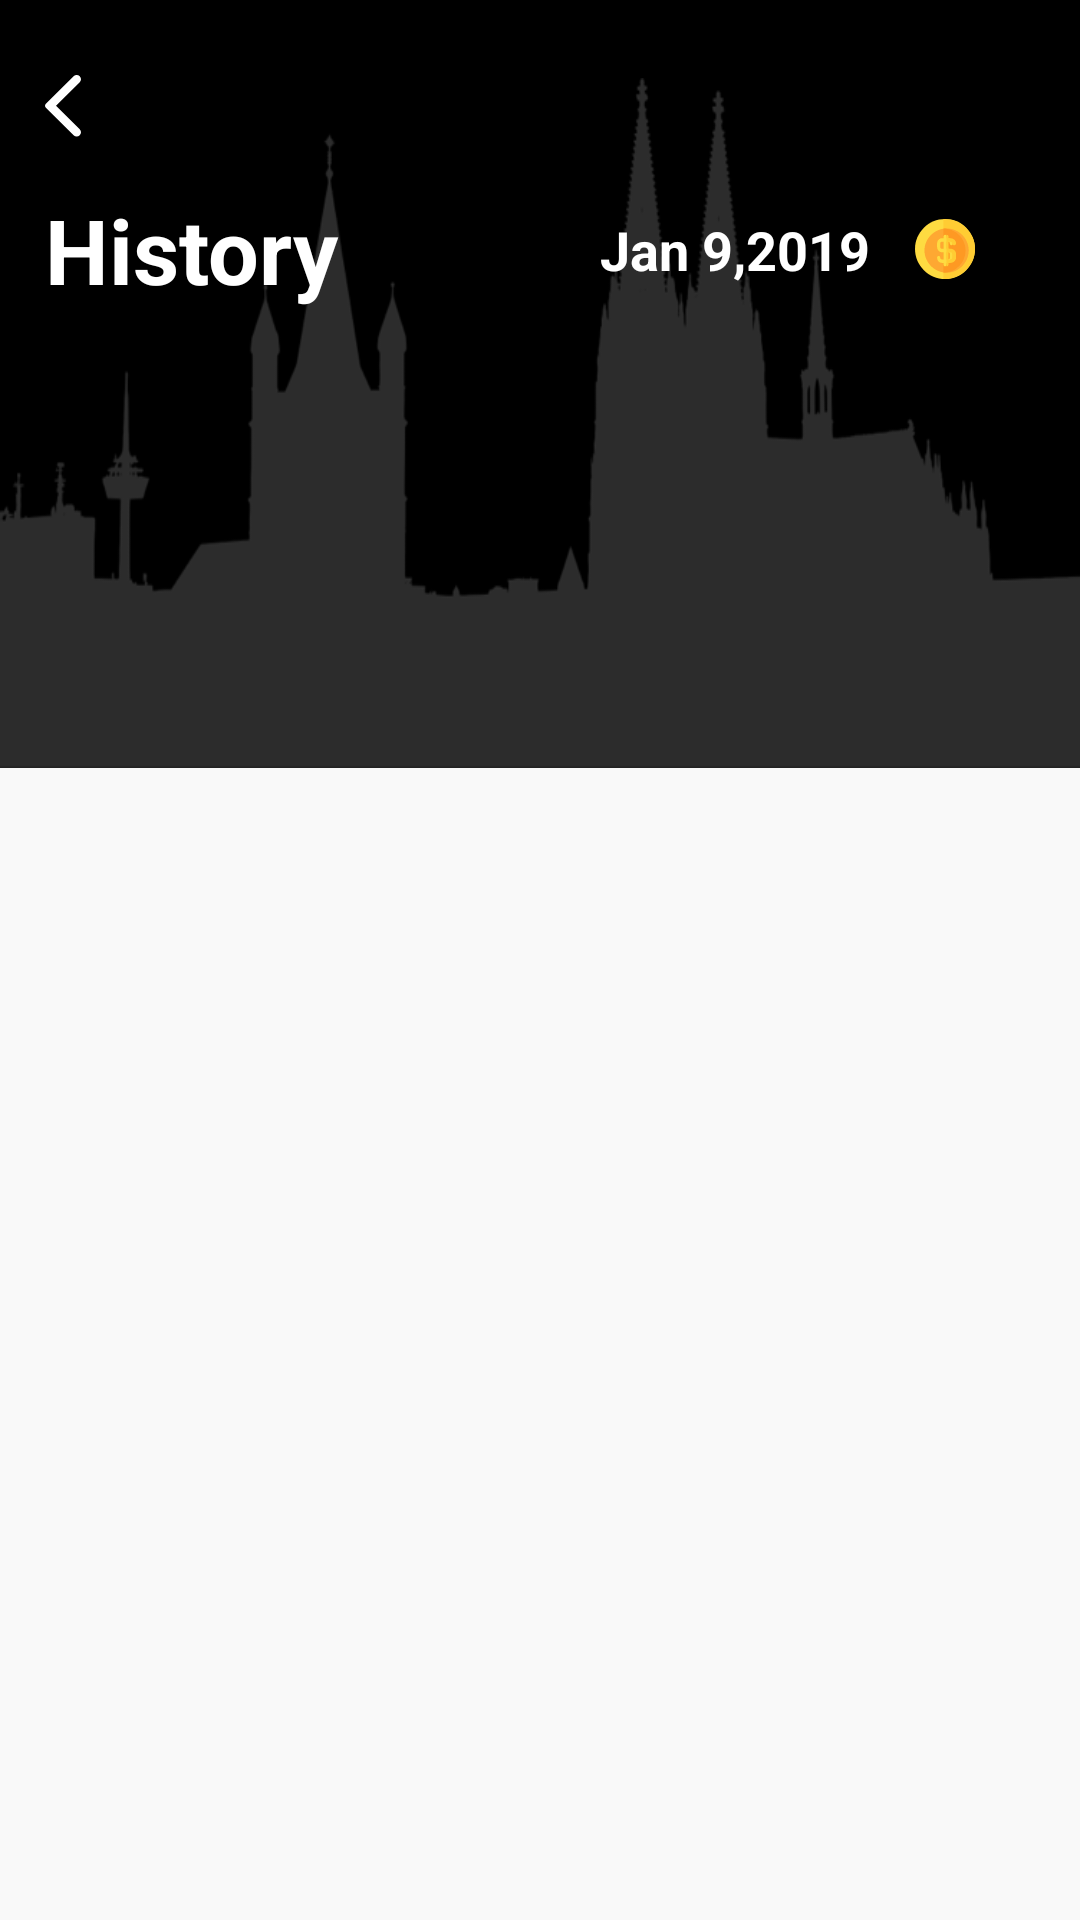

Icons on this 1080w x 1920h Android screen, each with its box as (left=x1, top=y1, right=x2, bottom=y2):
left arrow: (left=45, top=75, right=81, bottom=137)
